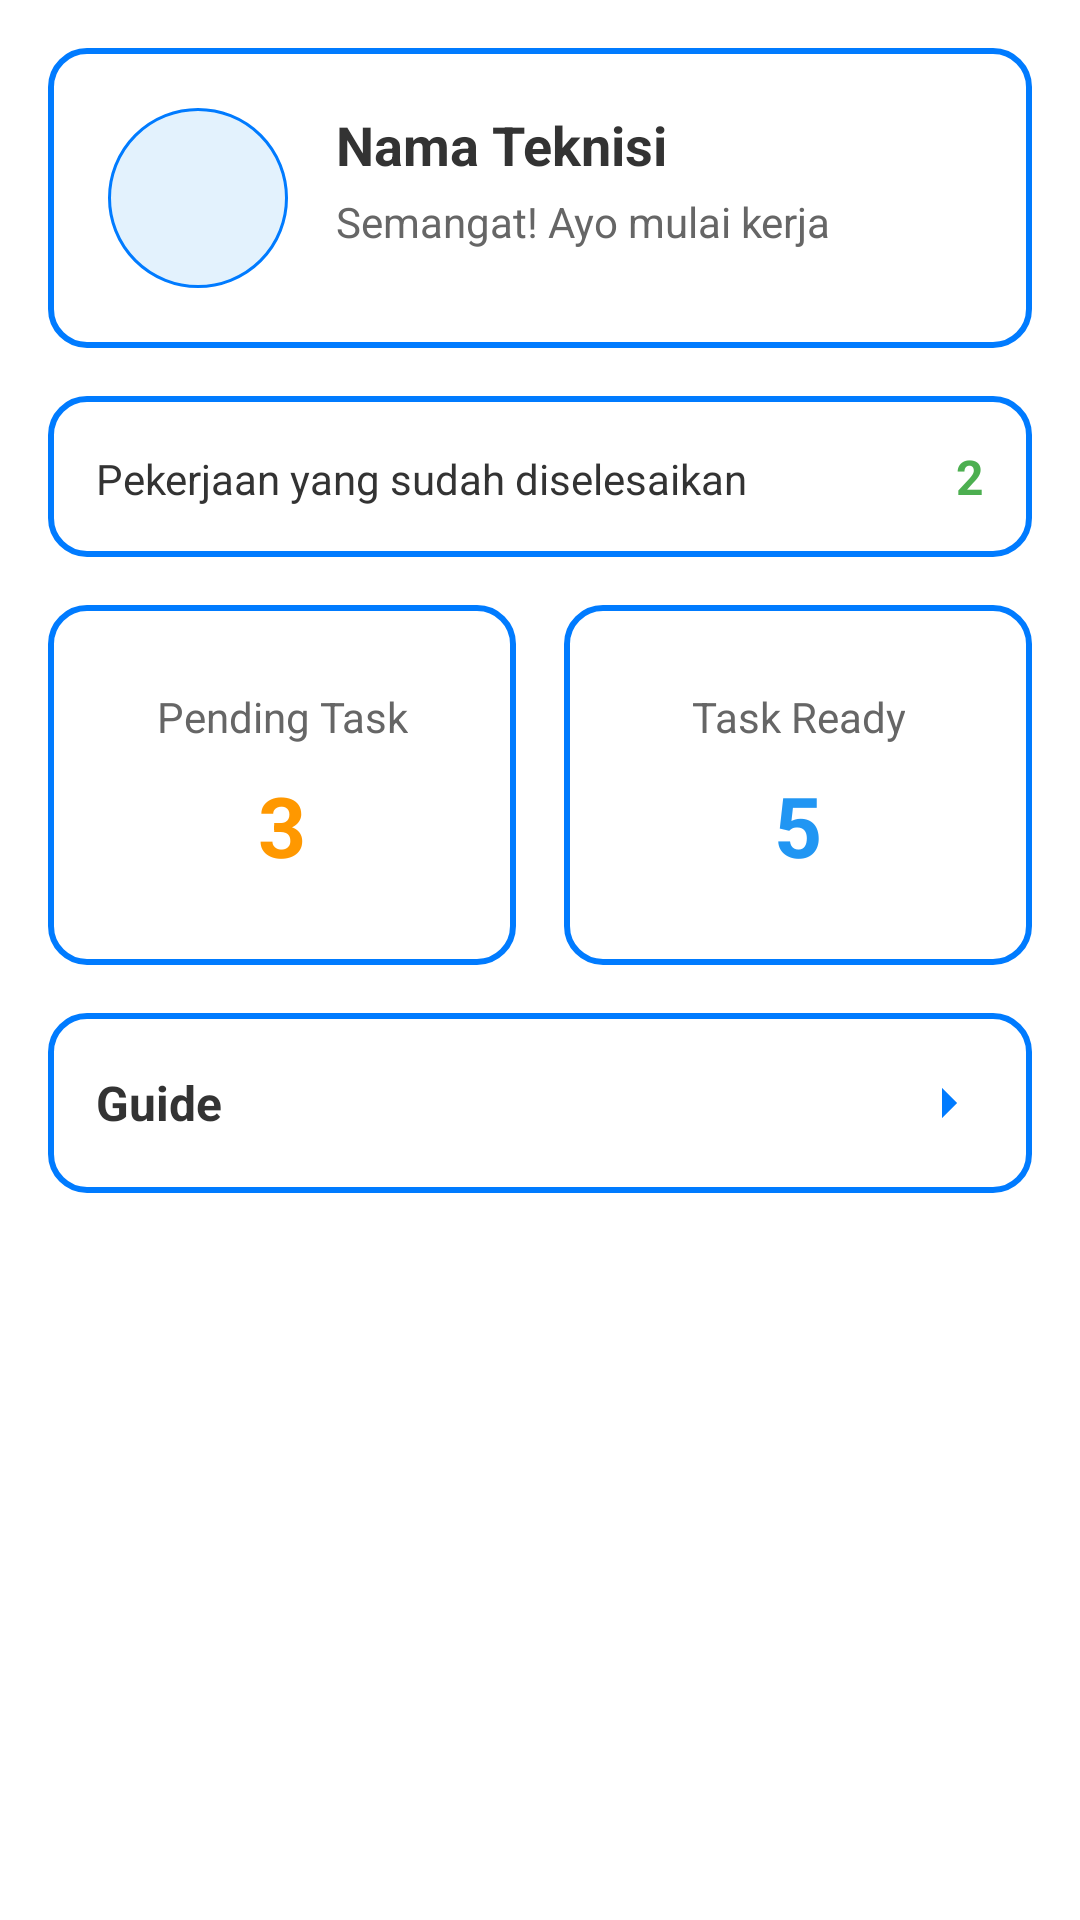

Point at icon controls on the screen. Image size 1080*1920, points as [x,y].
arrow right: [949,1103]
